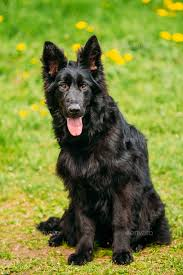dog_sitting: (35, 36, 173, 269)
